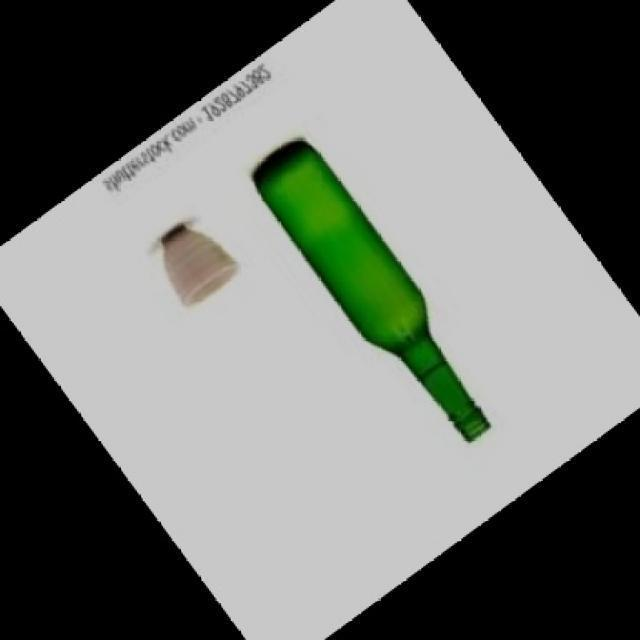Glass: (249, 136, 493, 442)
